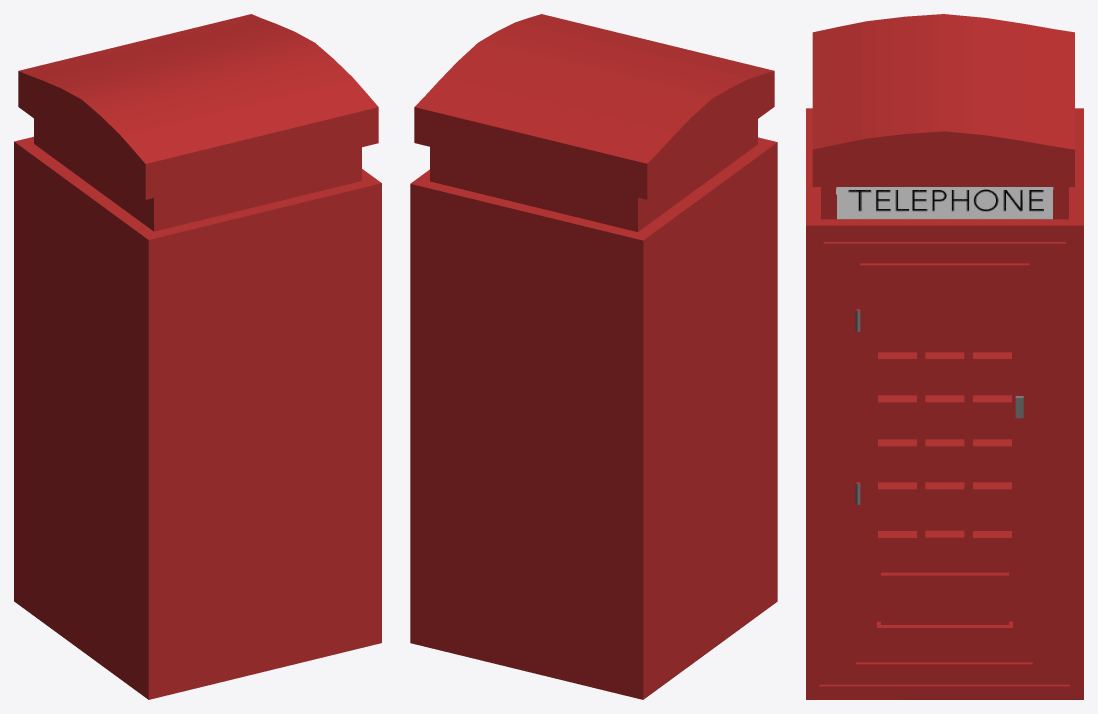
The model's file is telephone_box.fbx.
3 renders of one model, left to right at view 1: azimuth 30°, elevation 25°; view 2: azimuth 150°, elevation 25°; view 3: azimuth 270°, elevation 25°, orthographic. The views are drawn at different scales.
Parts seen in each view (by area): view 1: telephone_box; view 2: telephone_box; view 3: telephone_box.
Boxes of the visible parts, bbox=[...] form: telephone_box: bbox=[14, 14, 381, 699]; telephone_box: bbox=[410, 14, 777, 699]; telephone_box: bbox=[806, 14, 1083, 699].
Bounding box in the file's own units: 32.74 × 72.71 × 32.18.
